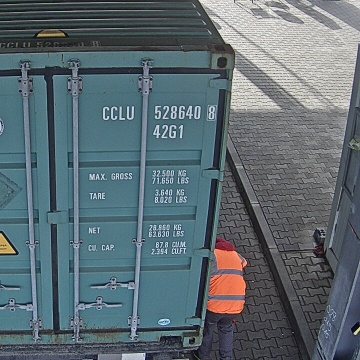serial_id: (102, 105, 215, 120)
